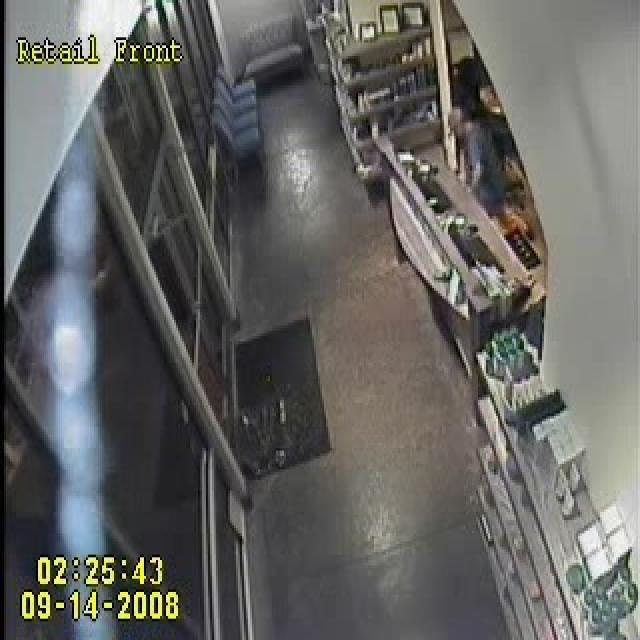thief: (417, 117, 494, 230)
